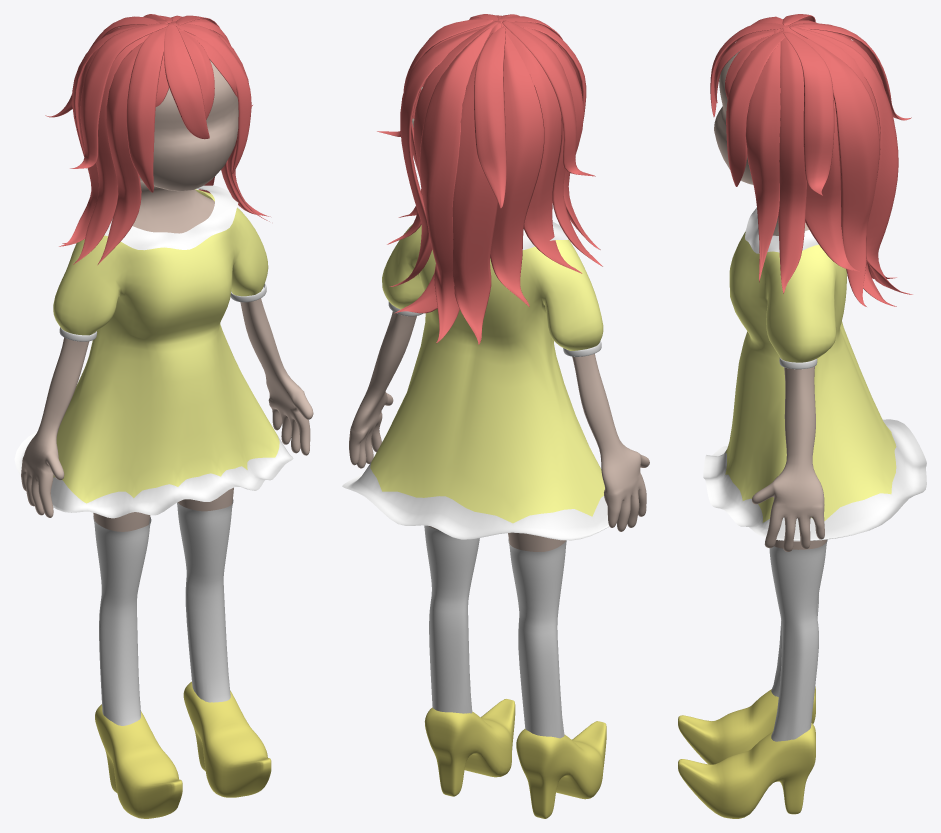
Rendered from chara1(hair).fbx.
3 renders of one model, left to right at view 1: azimuth 30°, elevation 25°; view 2: azimuth 150°, elevation 25°; view 3: azimuth 270°, elevation 25°, orthographic. The views are drawn at different scales.
Visible parts, largest first — view 1: polySurface117; view 2: polySurface117; view 3: polySurface117.
Boxes of the visible parts, <box> form: polySurface117: <box>14,14,313,818</box>; polySurface117: <box>342,14,649,818</box>; polySurface117: <box>678,14,926,818</box>.
Bounding box in the file's own units: 1.63 × 4.37 × 1.29.
Materials: 7 (1 with a texture image).
